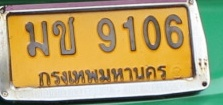txt08: (52, 16, 78, 57)
txt28: (23, 20, 51, 59)
